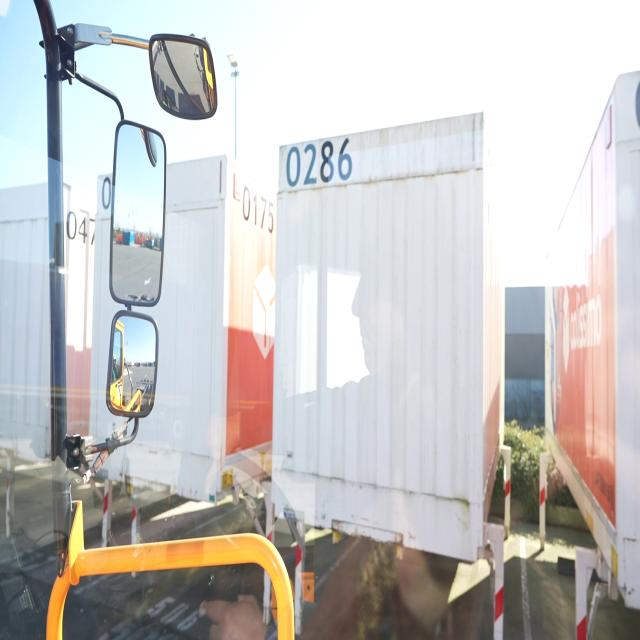Code: (285, 123, 355, 186), (238, 180, 278, 237)
